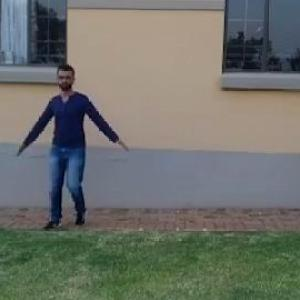land: (20, 66, 126, 228)
